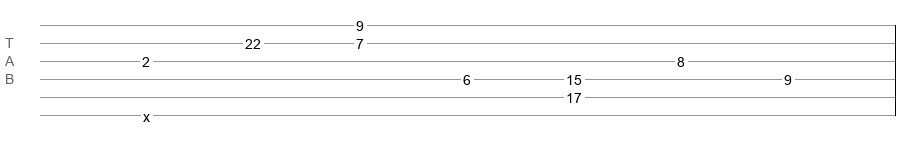15: (566, 72, 582, 82)
17: (566, 90, 582, 100)
2: (142, 54, 150, 64)
22: (245, 36, 261, 46)
6: (463, 72, 471, 82)
7: (356, 36, 364, 46)
8: (677, 54, 685, 64)
9: (356, 18, 364, 28), (784, 72, 792, 82)
x: (143, 109, 150, 117)
